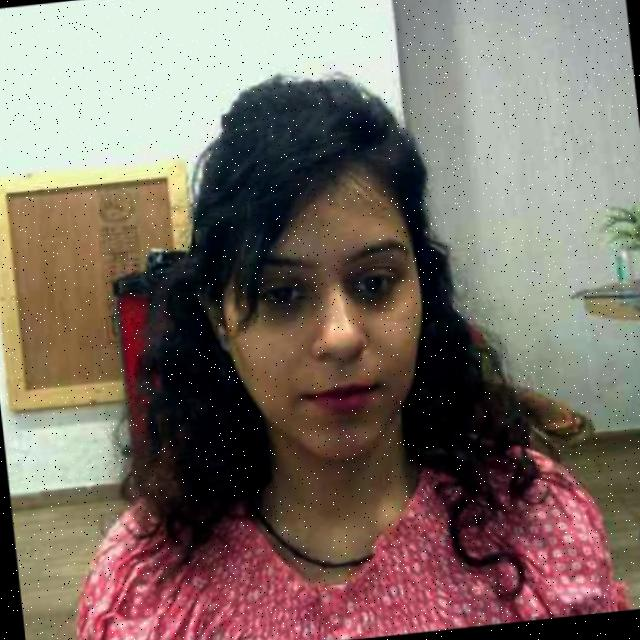puffy_eyes: (257, 303, 299, 324), (346, 293, 383, 313)
